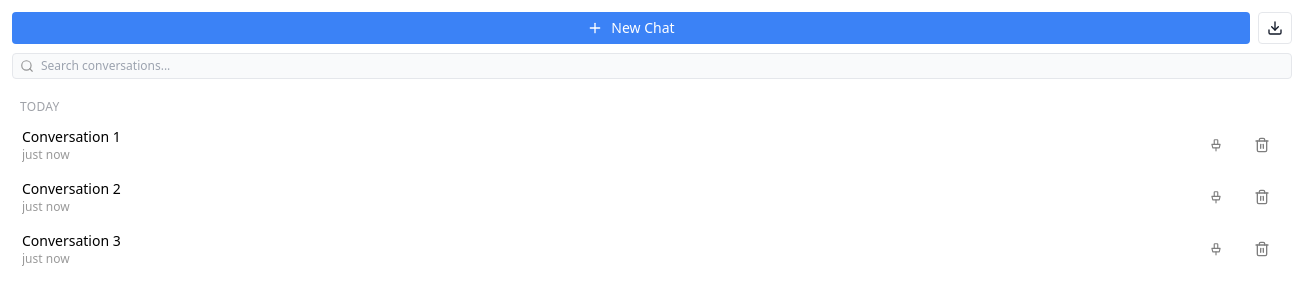
Test: Global Search › shows 'Search all conversations' button when search query has 3+ chars
# Type less than 3 chars - button should not appear
Type "ab" into the field with test id "conversation-search". click: (652, 66)
box: [12, 53, 1292, 79]
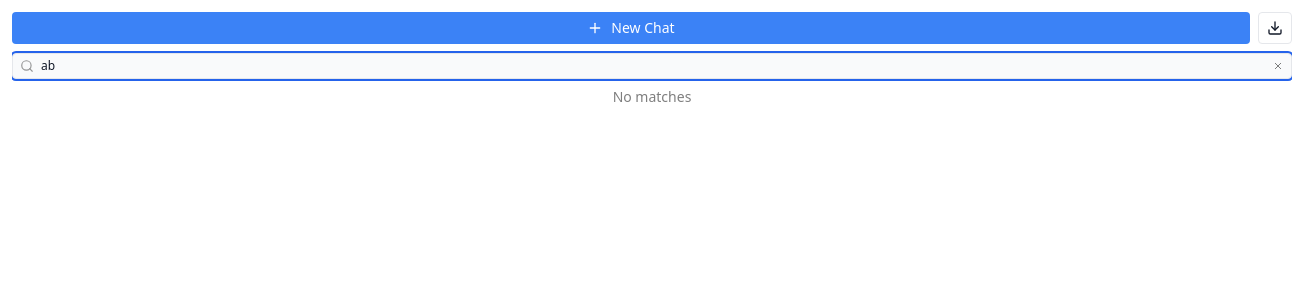
# Type 3+ chars - button should appear
Type "c" into the field with test id "conversation-search". click: (652, 66)
box: [12, 53, 1292, 79]
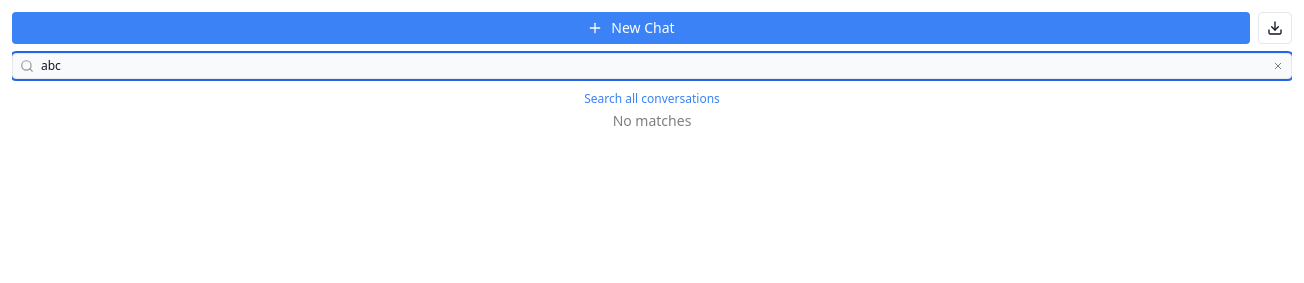
Expected: the button with test id "global-search-button" is shown, [12, 87, 1292, 111]
